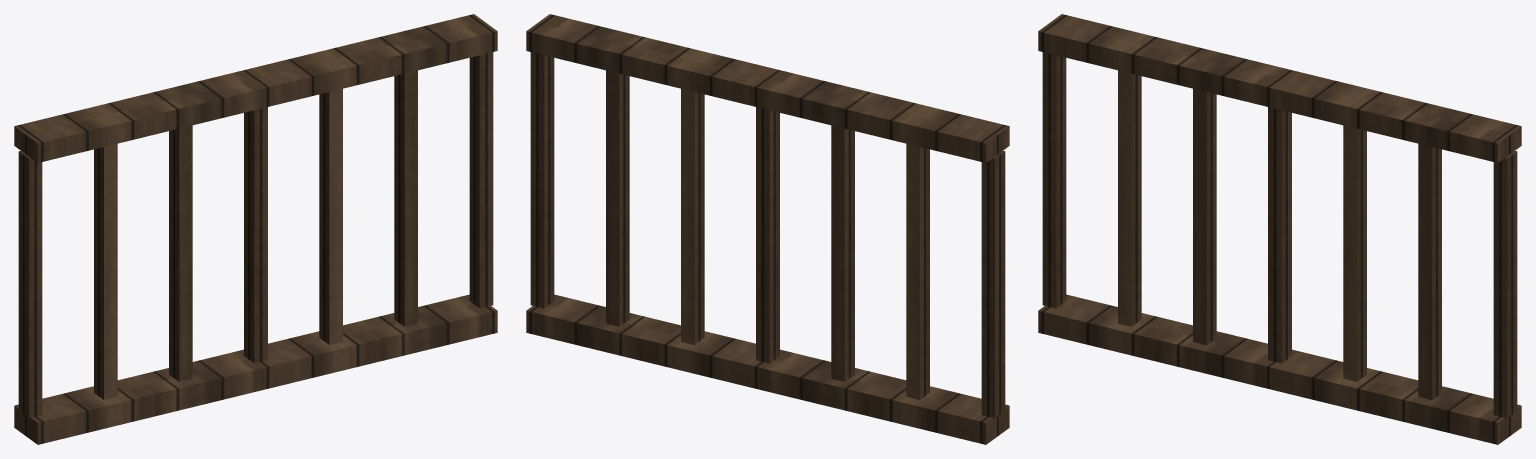
Rendered from Balcony_Simple_Straight_LOD1.gltf.
The picture shows the model from 3 angles, left to right: view 1: azimuth 30°, elevation 25°; view 2: azimuth 150°, elevation 25°; view 3: azimuth 330°, elevation 25°; orthographic projection.
Visible parts, largest first — view 1: Balcony_Simple_Straight_LOD1; view 2: Balcony_Simple_Straight_LOD1; view 3: Balcony_Simple_Straight_LOD1.
Part boxes in pixels (x1,y1,x2,y2): Balcony_Simple_Straight_LOD1: (14,14,497,444); Balcony_Simple_Straight_LOD1: (526,14,1009,444); Balcony_Simple_Straight_LOD1: (1038,14,1521,444).
Bounding box in the file's own units: 1.98 × 1.23 × 0.175.
Materials: 1 (1 with a texture image).
